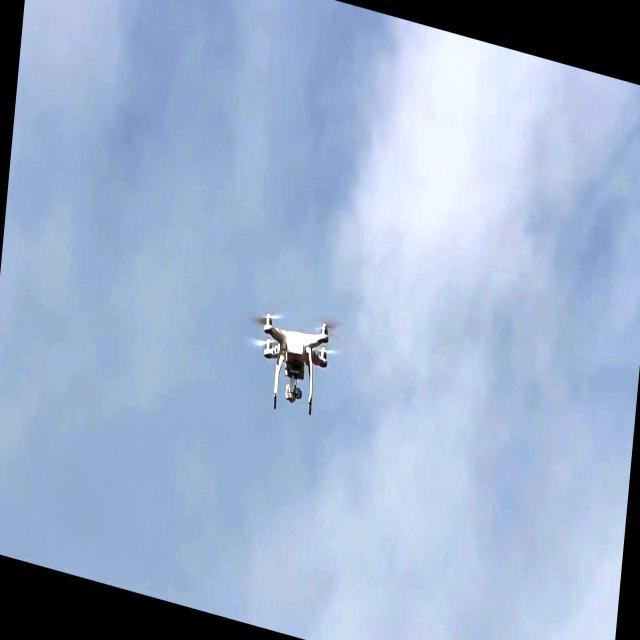drone: (242, 294, 335, 424)
